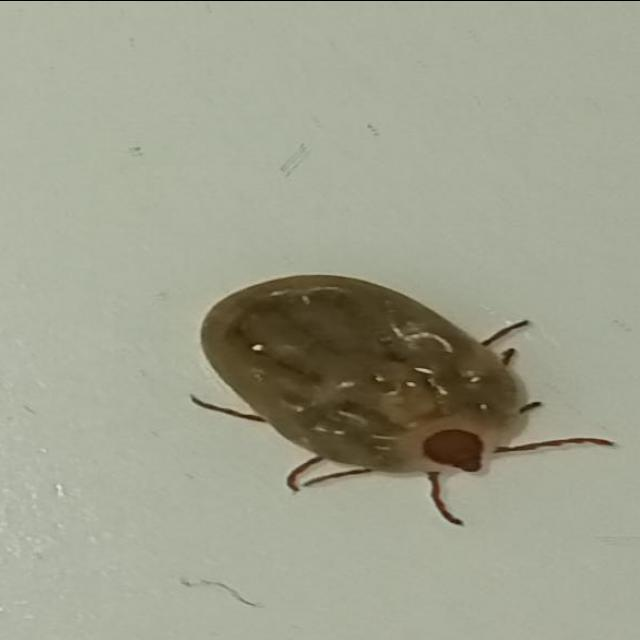Rhipicephalus Sanguineus-F-Fed: (187, 272, 617, 526)
